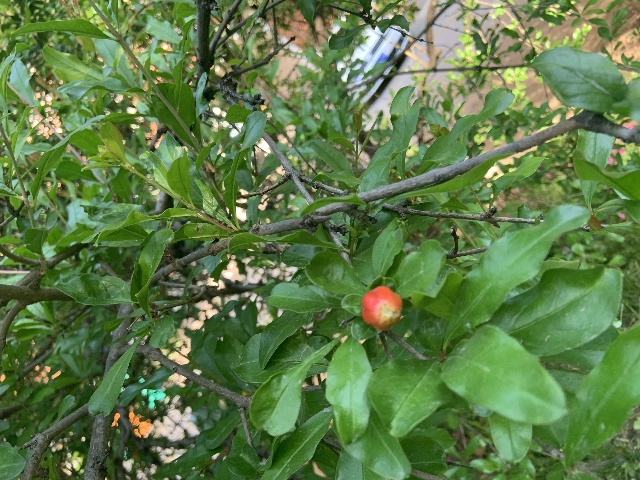bud: (361, 285, 403, 330)
